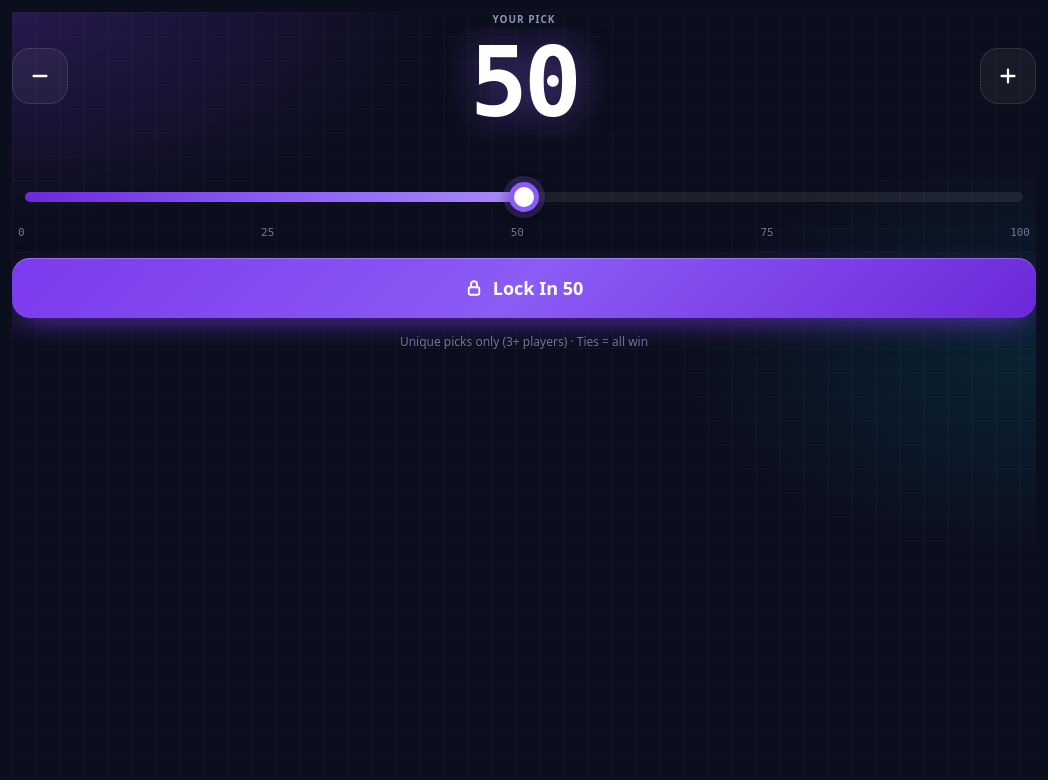
Test: NumberSlider › the slider allows non-multiples of 5
Set the slider named "Pick a number between 0 and 100" to "43" at [453, 197], box [12,175,1036,219]
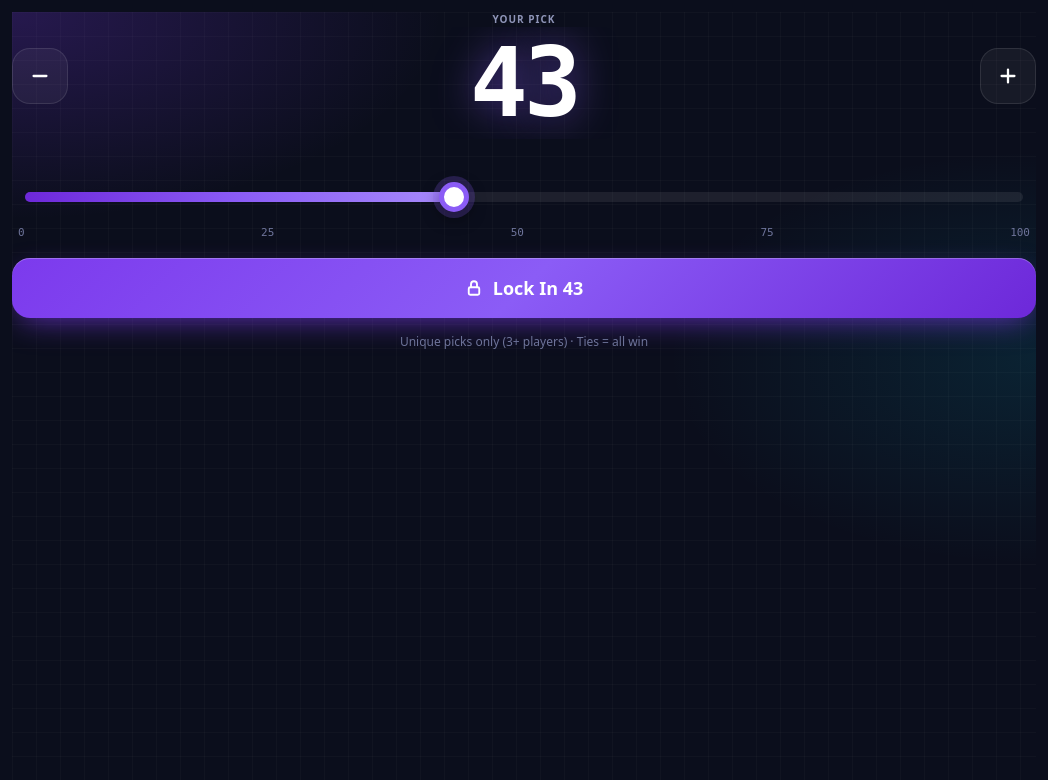
Now the number field named "Enter number directly" holds "43", box [429,27,619,139]
